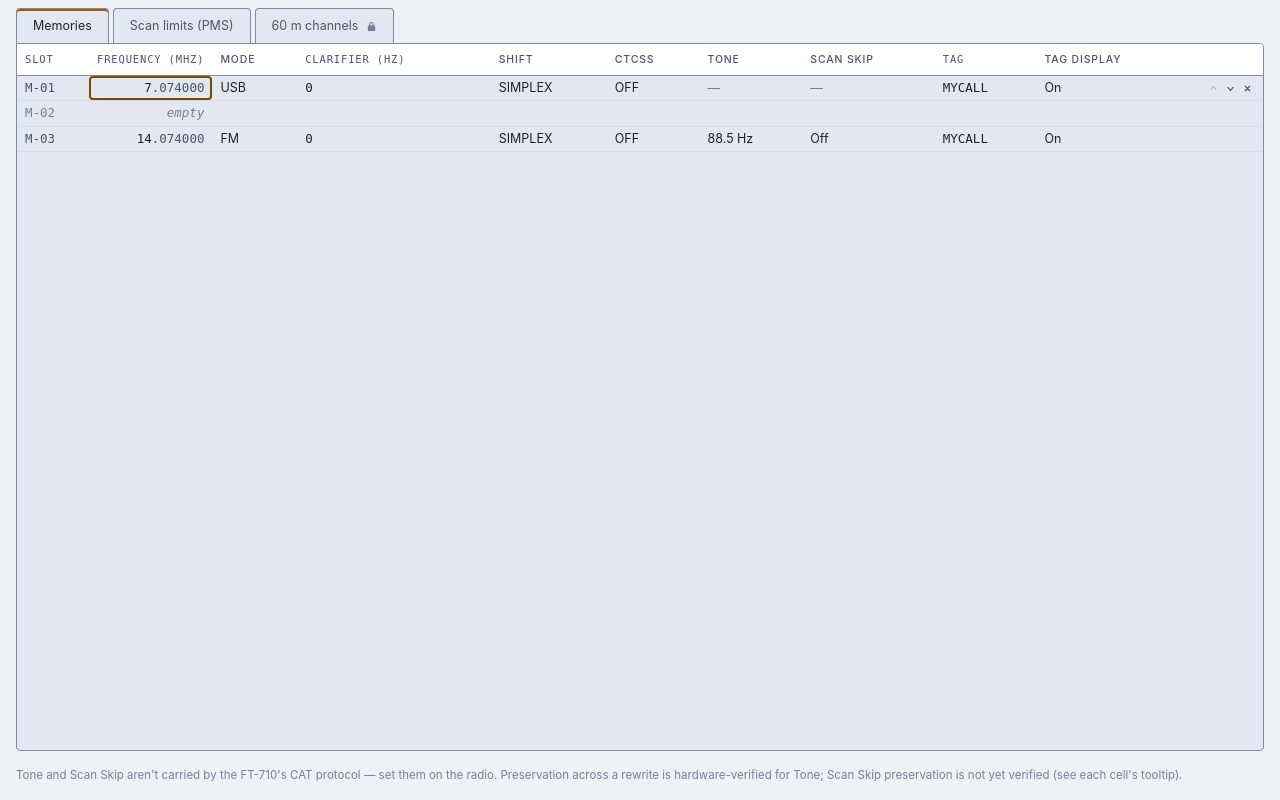
it: editing › commits exactly once and the cell re-renders when the bridge mirrors the edit back
Press Enter in the cell "7.074000", box [89,76,212,101]
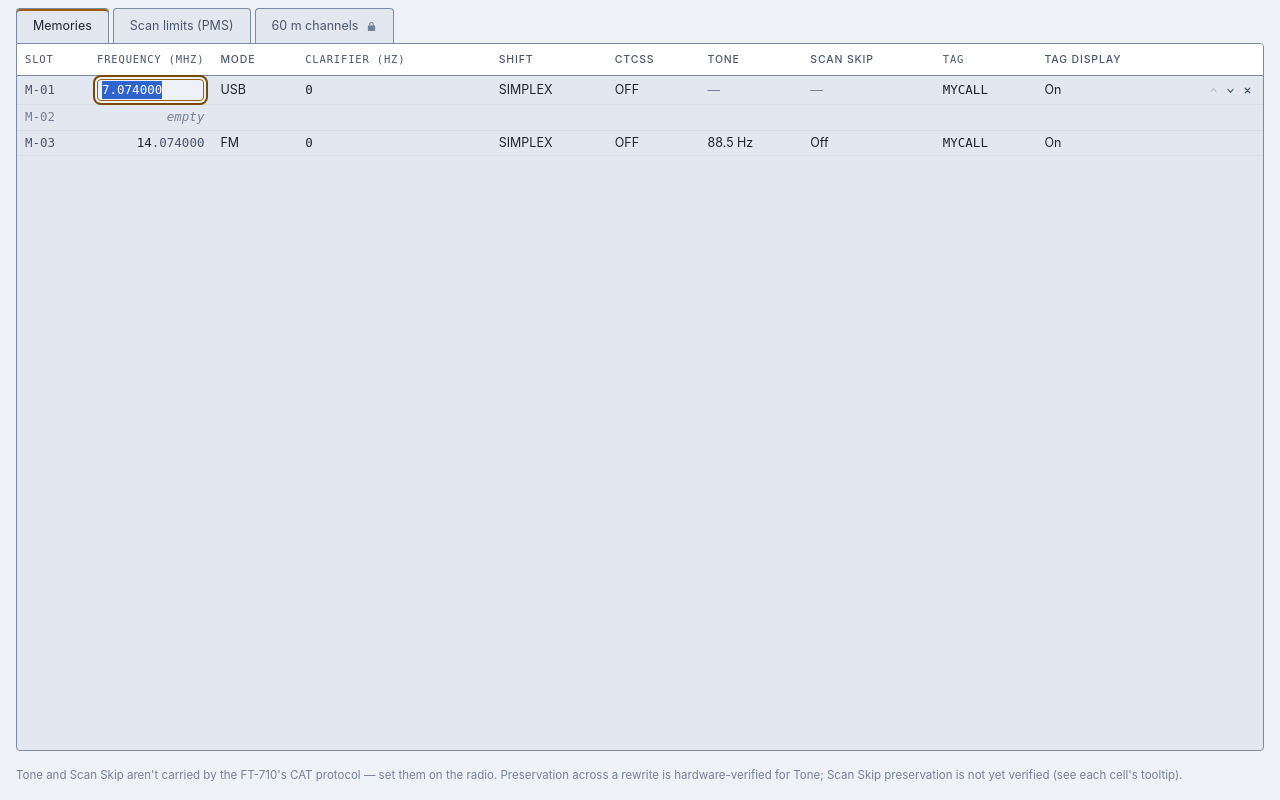
Replace the text in the field named "Frequency (MHz), M-01" with "7.2". click: (151,90)
box: [97,79,204,101]
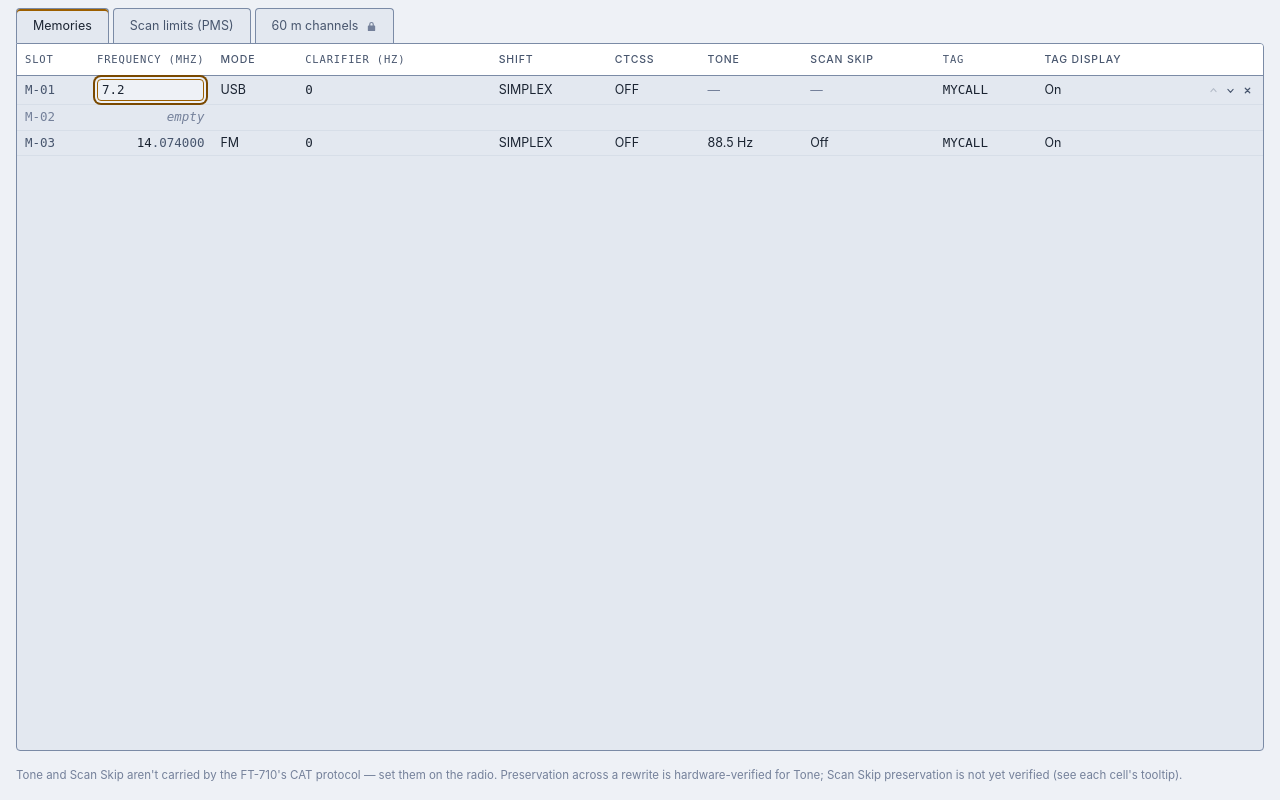
Press Enter in the field named "Frequency (MHz), M-01", box [97,79,204,101]
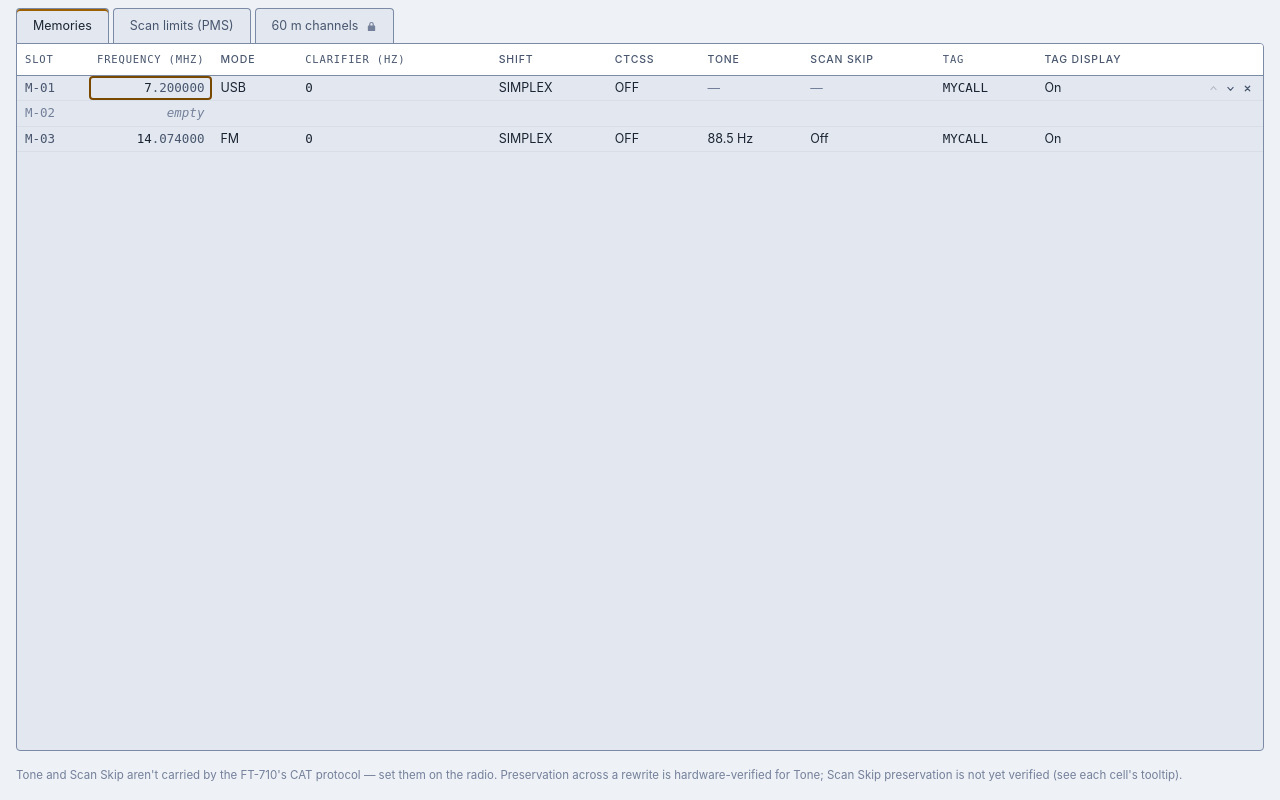
Result: the cell "7.200000" is shown at [89,76,212,101]
Result: the field is gone
